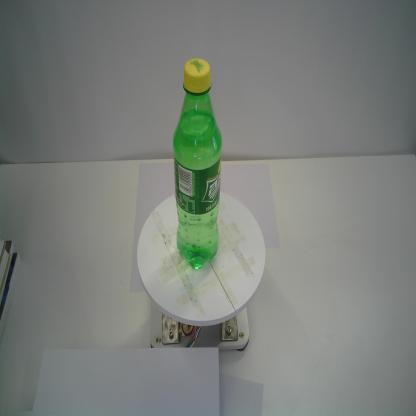Drink: (171, 56, 224, 272)
